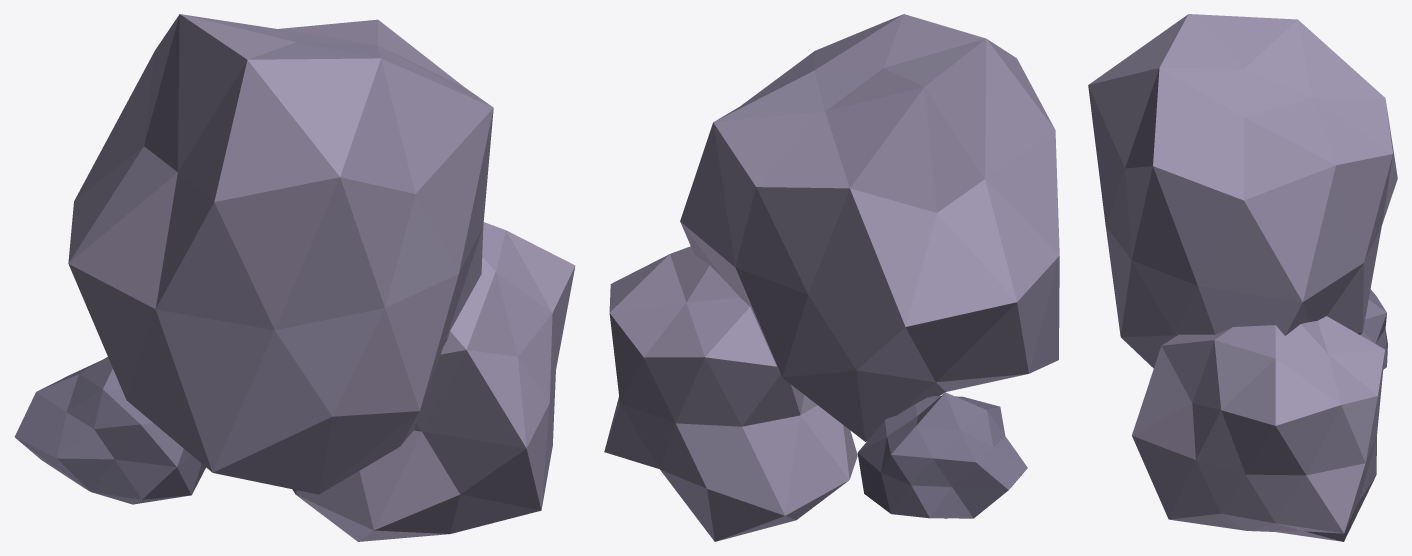
File: kit__boulder_c.fbx
3 views of the same model, side by side, from view 1: azimuth 30°, elevation 25°; view 2: azimuth 150°, elevation 25°; view 3: azimuth 270°, elevation 25° (orthographic). The views are drawn at different scales.
Visible parts, largest first — view 1: kit__boulder_c; view 2: kit__boulder_c; view 3: kit__boulder_c.
Part boxes in pixels (x1,y1,x2,y2): kit__boulder_c: (14,14,575,541); kit__boulder_c: (604,14,1059,541); kit__boulder_c: (1088,14,1397,541).
Size of the model in its own units: 2.92 by 3.1 by 1.95.
